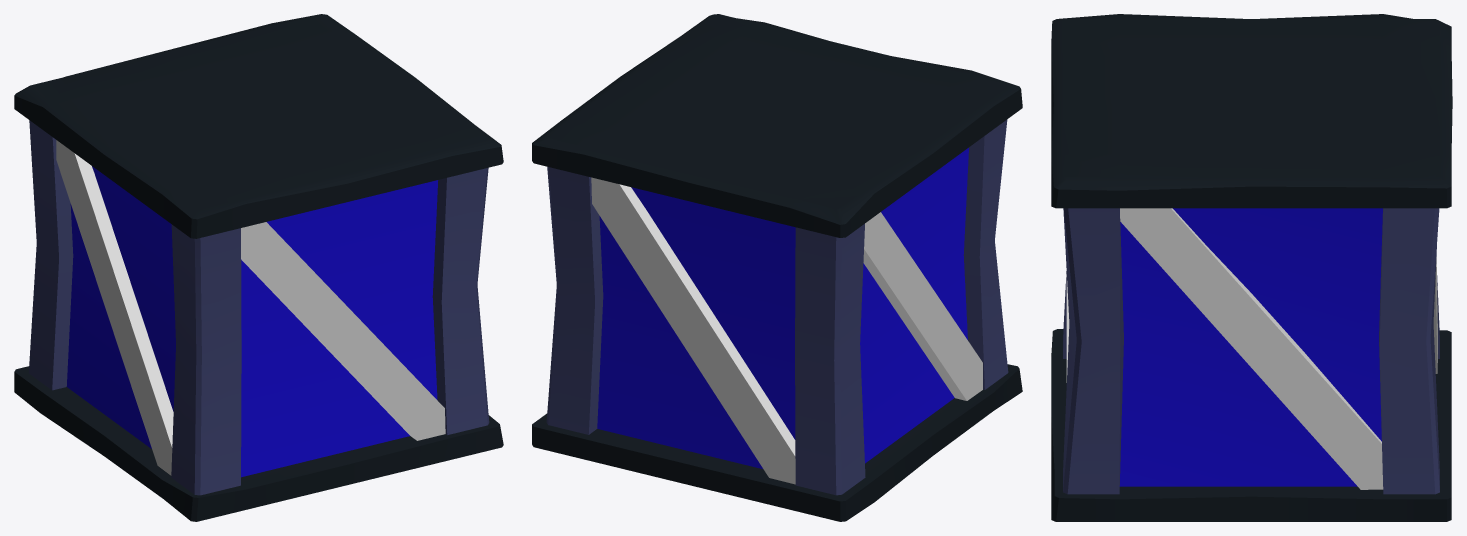
3 renders of one model, left to right at view 1: azimuth 30°, elevation 25°; view 2: azimuth 150°, elevation 25°; view 3: azimuth 270°, elevation 25°, orthographic. The views are drawn at different scales.
Visible parts, largest first — view 1: SM_box_b_a, SM_box_b_b, SM_box_b_e; view 2: SM_box_b_a, SM_box_b_d, SM_box_b_e; view 3: SM_box_b_a, SM_box_b_c.
Part boxes in pixels (left/top/right/bottom): SM_box_b_a: left=14, top=14, right=503, bottom=521; SM_box_b_b: left=241, top=222, right=445, bottom=440; SM_box_b_e: left=56, top=140, right=173, bottom=475; SM_box_b_a: left=532, top=14, right=1022, bottom=521; SM_box_b_d: left=591, top=177, right=795, bottom=484; SM_box_b_e: left=863, top=212, right=982, bottom=400; SM_box_b_a: left=1051, top=14, right=1452, bottom=521; SM_box_b_c: left=1120, top=208, right=1383, bottom=489.
Size of the model in its own units: 1.72 by 1.62 by 1.72.
